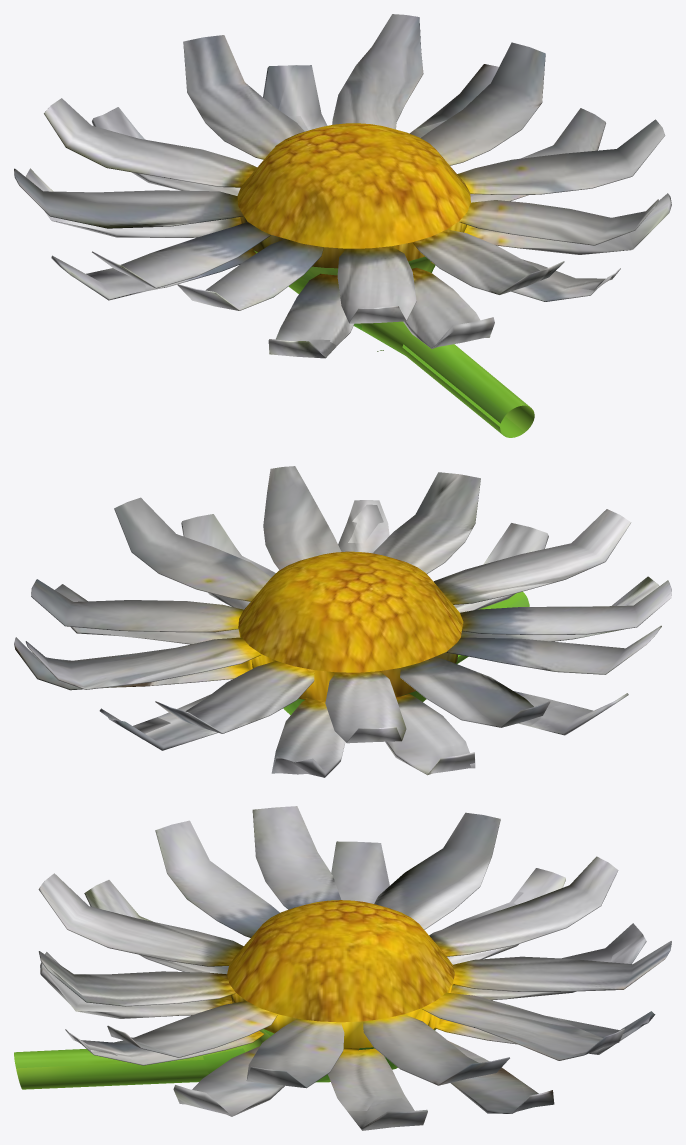
3 renders of one model, top to bottom at view 1: azimuth 30°, elevation 25°; view 2: azimuth 150°, elevation 25°; view 3: azimuth 270°, elevation 25°, orthographic. The views are drawn at different scales.
Visible parts, largest first — view 1: 16f836d2; view 2: 16f836d2; view 3: 16f836d2.
Boxes of the visible parts, left/top/right/bottom form: 16f836d2: left=14, top=14, right=671, bottom=437; 16f836d2: left=14, top=466, right=671, bottom=777; 16f836d2: left=14, top=806, right=671, bottom=1130.
Bounding box in the file's own units: 0.0832 × 0.0248 × 0.0867.
3 materials, 3 textured.
